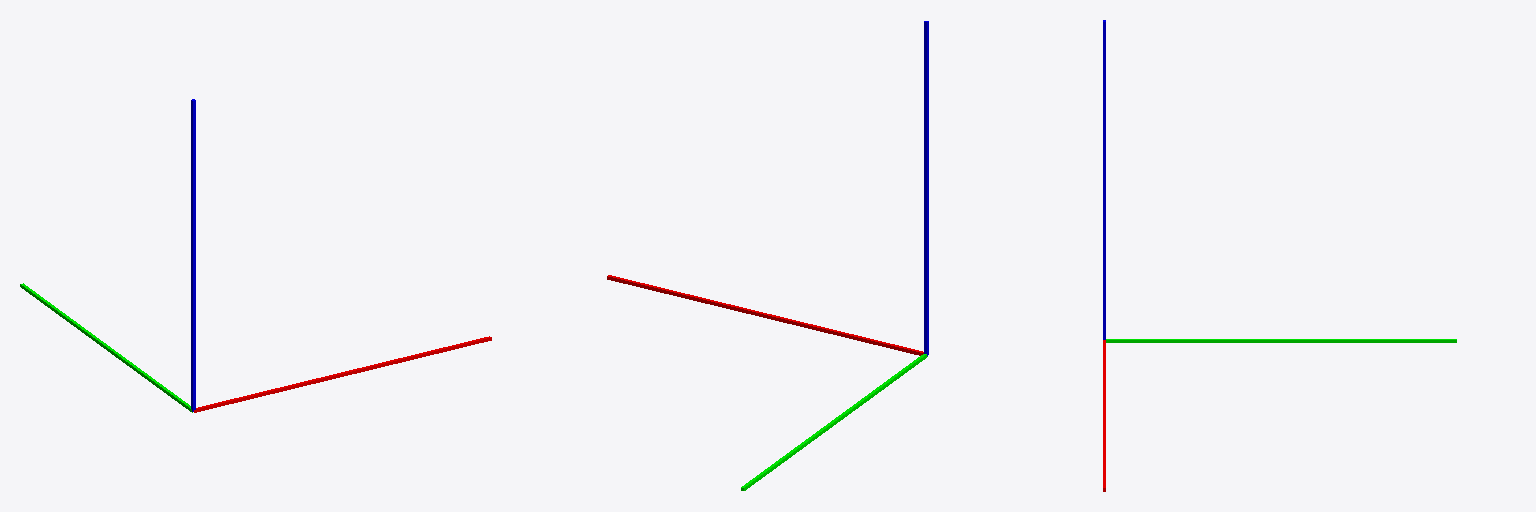
robot.urdf — coordinate_system:
<?xml version="1.0" ?>
<robot name="coordinate_system">
  <link name="x_axis">
    <visual>
      <origin rpy="0 0 0" xyz="0.05 0 0"/>
      <geometry>
        <box size="0.1 0.001 0.001" />
      </geometry>
      <material name="red">
        <color rgba="1 0 0 1"/>
      </material>
    </visual>
  </link>
  
  <joint name="joint_1" type="fixed">
    <parent link="x_axis"/>
    <child link="y_axis"/>
  </joint>
  
  <link name="y_axis">
    <visual>
      <origin rpy="0 0 0" xyz="0 0.05 0"/>
      <geometry>
        <box size="0.001 0.1 0.001" />
      </geometry>
      <material name="green">
        <color rgba="0 1 0 1"/>
      </material>
    </visual>
  </link>
  
  <joint name="joint_2" type="fixed">
    <parent link="x_axis"/>
    <child link="z_axis"/>
  </joint>
  
  <link name="z_axis">
    <visual>
      <origin rpy="0 0 0" xyz="0 0 0.05"/>
      <geometry>
        <box size="0.001 0.001 0.1" />
      </geometry>
      <material name="blue">
        <color rgba="0 0 1 1"/>
      </material>
    </visual>
  </link>
</robot>

--- Render facts (derived) ---
The picture shows the robot from 3 angles, left to right: view 1: azimuth 30°, elevation 25°; view 2: azimuth 150°, elevation 25°; view 3: azimuth 270°, elevation 25°; orthographic projection.
Model coordinate_system with 3 links and 2 joints (2 fixed), rooted at x_axis, posed every joint at zero.
Links seen in each view (by area): view 1: z_axis, x_axis, y_axis; view 2: z_axis, x_axis, y_axis; view 3: y_axis, z_axis.
Boxes of the visible links, left/top/right/bottom form: z_axis: left=191, top=99, right=195, bottom=411; x_axis: left=194, top=336, right=491, bottom=412; y_axis: left=20, top=283, right=192, bottom=412; z_axis: left=924, top=21, right=928, bottom=355; x_axis: left=607, top=275, right=923, bottom=355; y_axis: left=741, top=354, right=927, bottom=490; y_axis: left=1106, top=339, right=1456, bottom=342; z_axis: left=1103, top=20, right=1105, bottom=339.
Bounding box of the posed robot: 0.1005 × 0.1005 × 0.1005 m (x, y, z).
Geometry: primitives only (box / cylinder / sphere), no mesh files.
